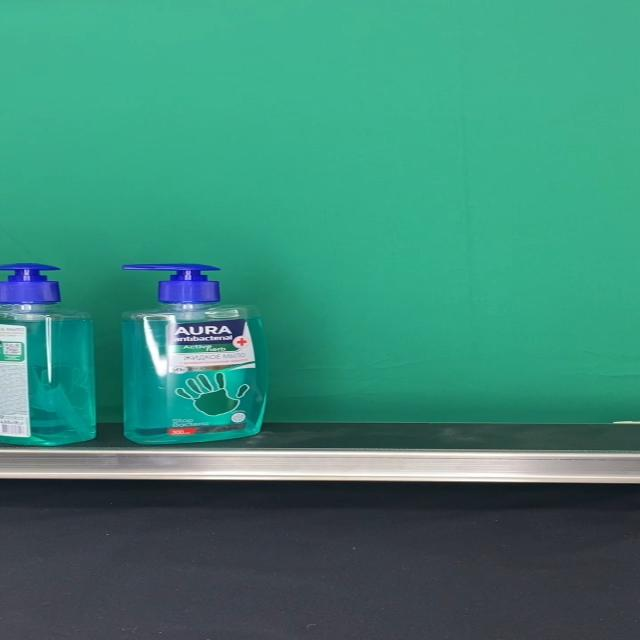Bottle: (120, 264, 270, 446)
Cap: (122, 264, 218, 306)
